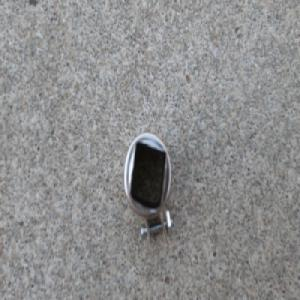MetalPart: (122, 130, 174, 252)
